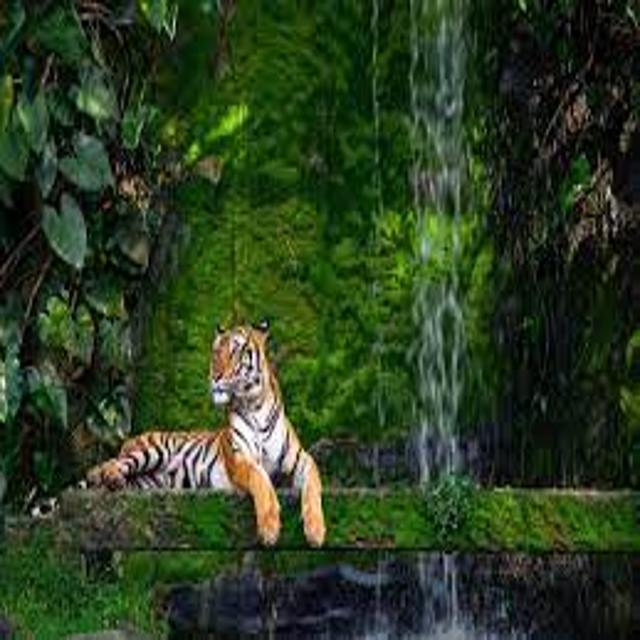tiger: (19, 295, 394, 570)
